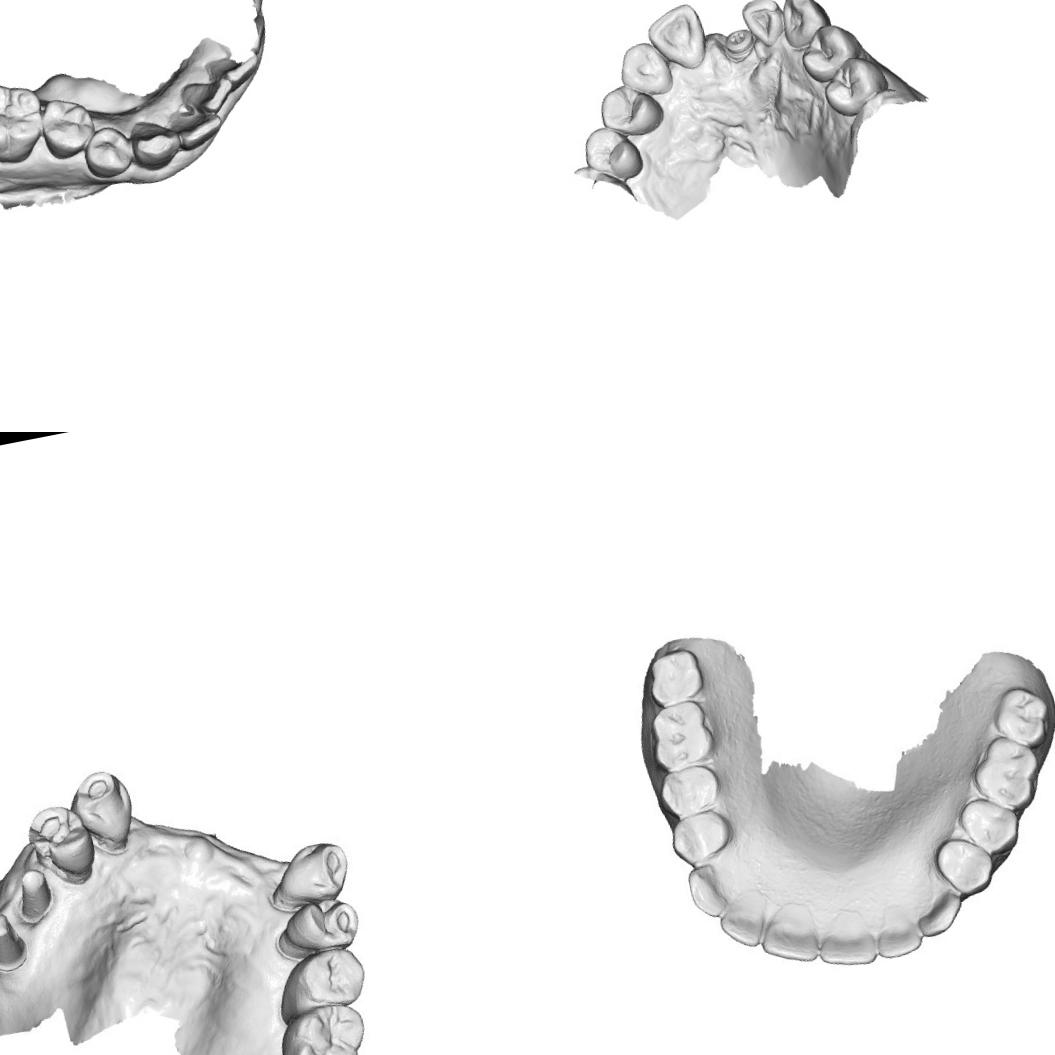canine: (71, 762, 146, 858), (272, 840, 354, 914), (611, 36, 674, 102), (124, 110, 187, 175), (686, 858, 740, 920), (774, 0, 834, 51), (913, 884, 964, 938)
implant_plus: (720, 23, 758, 62)
incisor: (639, 0, 711, 77), (812, 914, 878, 971), (173, 66, 238, 121), (168, 97, 226, 154), (762, 910, 816, 968), (204, 43, 264, 93), (716, 895, 772, 948), (736, 0, 788, 52), (872, 911, 920, 958)
molar: (269, 998, 374, 1055), (970, 732, 1042, 808), (0, 71, 53, 171), (651, 704, 714, 768), (643, 644, 703, 706), (994, 685, 1048, 742)
premolar: (272, 892, 364, 965), (22, 802, 96, 892), (273, 946, 369, 1015), (816, 48, 892, 120), (34, 88, 101, 164), (577, 118, 646, 188), (796, 17, 866, 86), (958, 792, 1026, 860), (596, 78, 666, 142), (76, 120, 138, 182), (938, 834, 994, 896), (668, 810, 732, 859), (663, 766, 721, 820)
